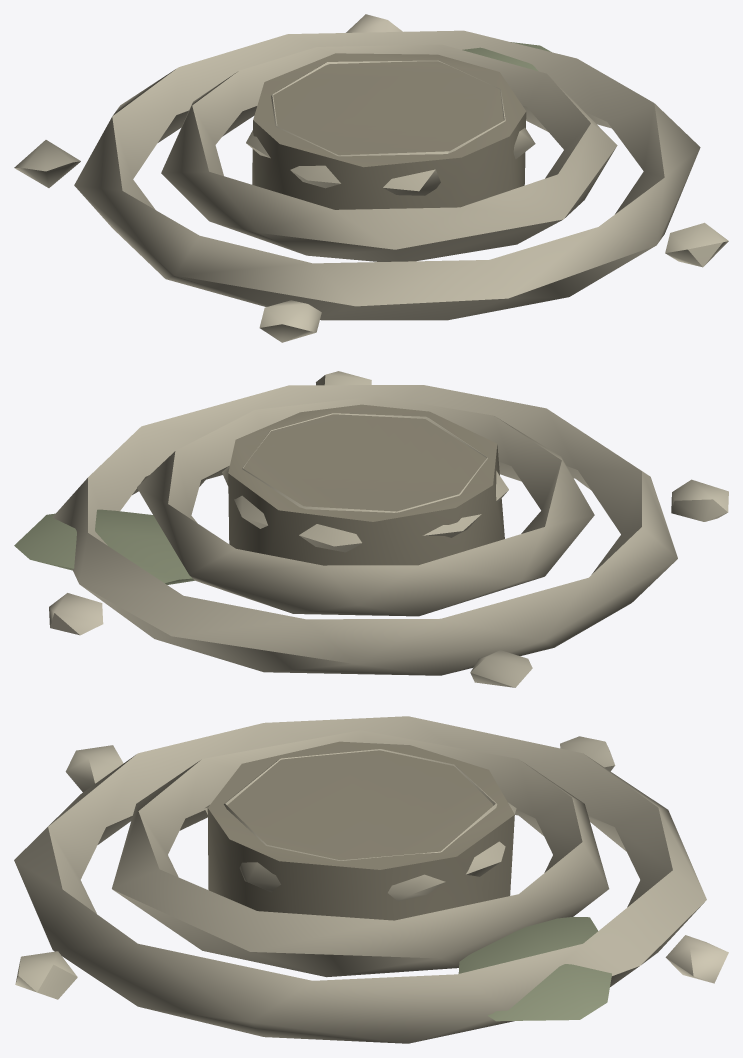
Rendered from mist_rings_a_lod2.glb.
3 views of the same model, one above another, from view 1: azimuth 30°, elevation 25°; view 2: azimuth 150°, elevation 25°; view 3: azimuth 270°, elevation 25° (orthographic). The views are drawn at different scales.
Parts seen in each view (by area): view 1: Surface.001; view 2: Surface.001; view 3: Surface.001.
Part boxes in pixels (box(x1,y1,x2,y2)): Surface.001: box(14, 14, 728, 342); Surface.001: box(14, 371, 728, 687); Surface.001: box(14, 716, 728, 1043).
Bounding box in the file's own units: 3.91 × 0.6866 × 4.13.
